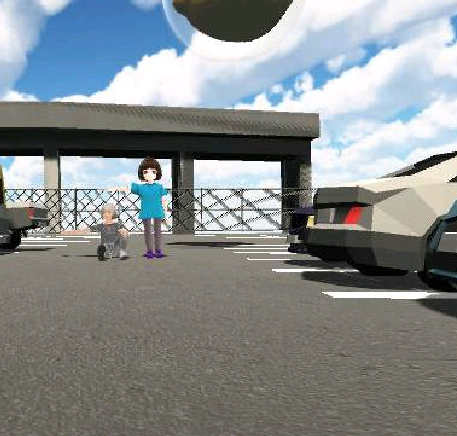doubleP_left: (58, 157, 172, 263)
